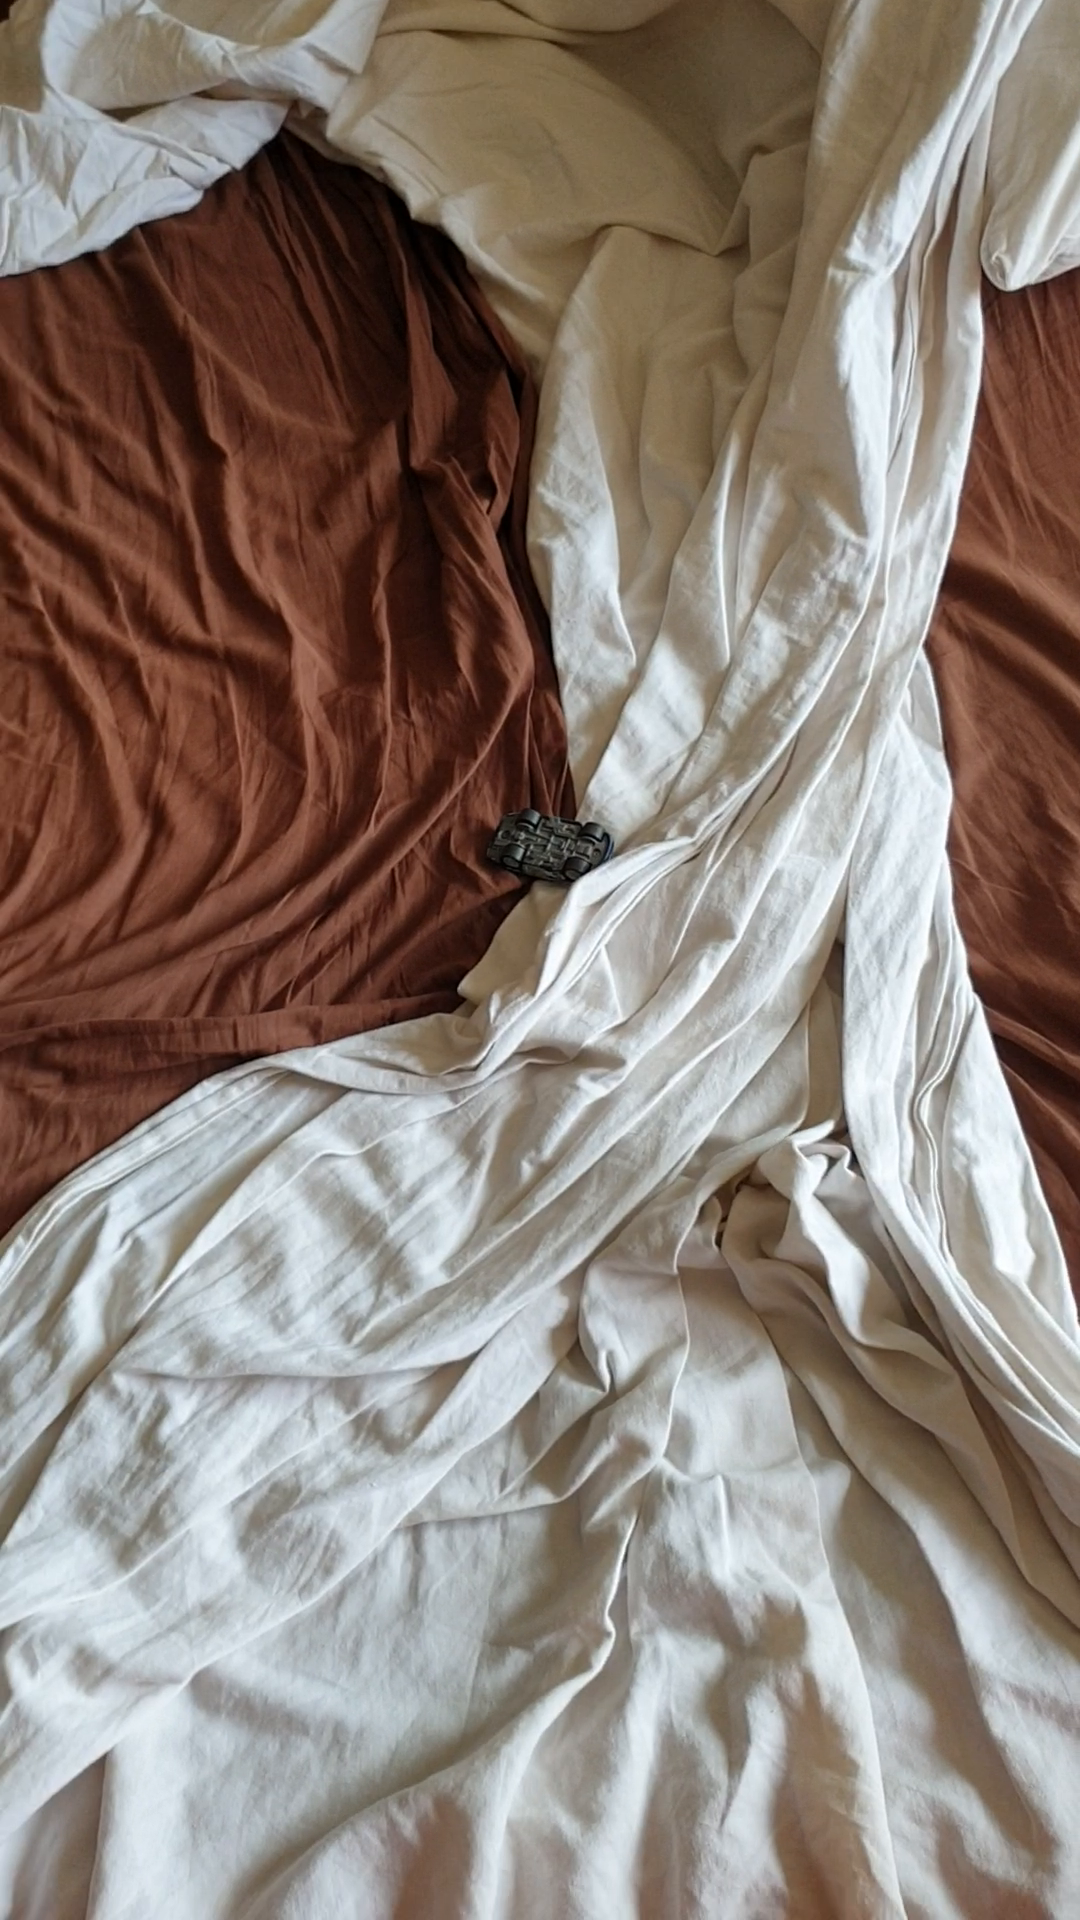cars: (472, 808, 617, 880)
